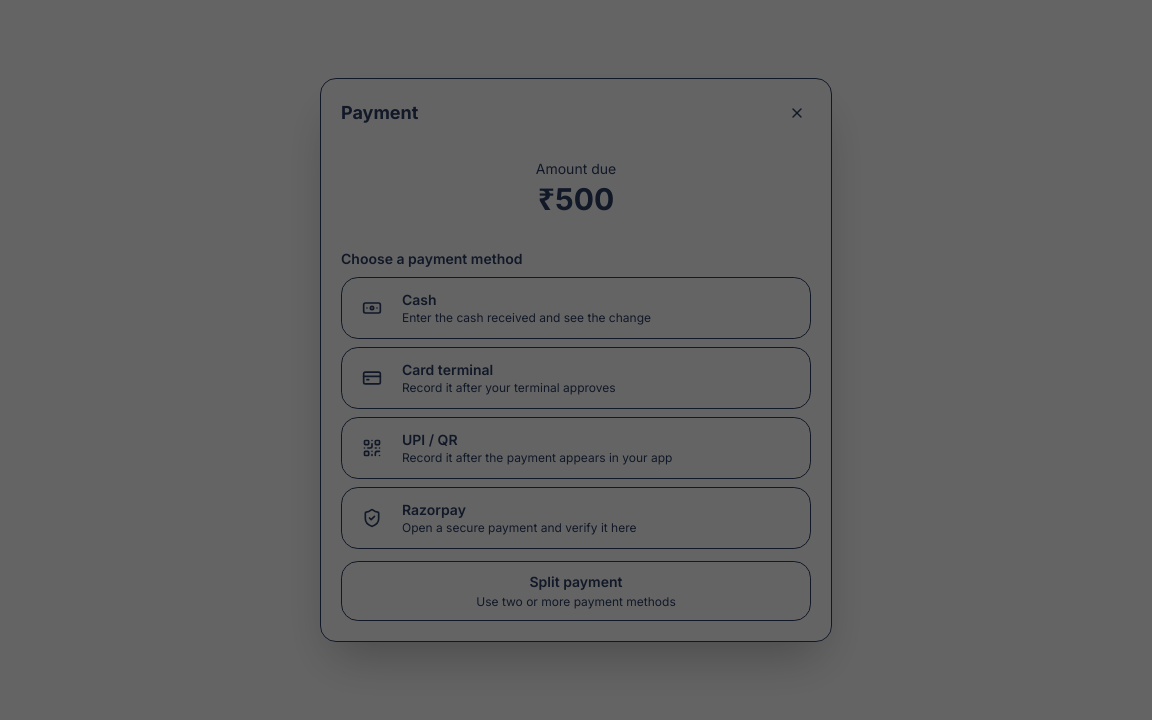
it: split payments › uses a method → amount → next method loop
Click the button "Split payment Use two or more payment methods".
click(576, 591)  # box [341,561,811,621]
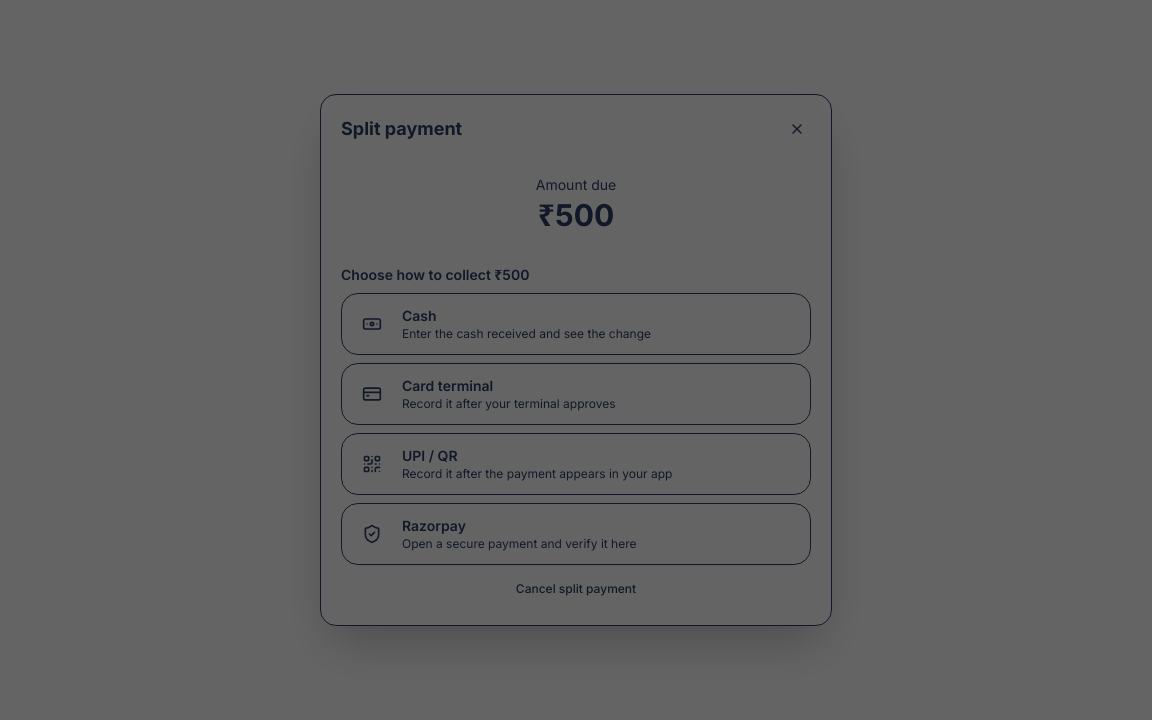
Expected: the field with placeholder "up to" is not shown
Expected: the heading "Split payment" is shown, [341,118,462,139]
Expected: the text "Choose how to collect ₹500" is shown, [341,266,529,283]
Click the button "Cash Enter the cash received and see the change".
click(576, 324)  # box [341,293,811,355]
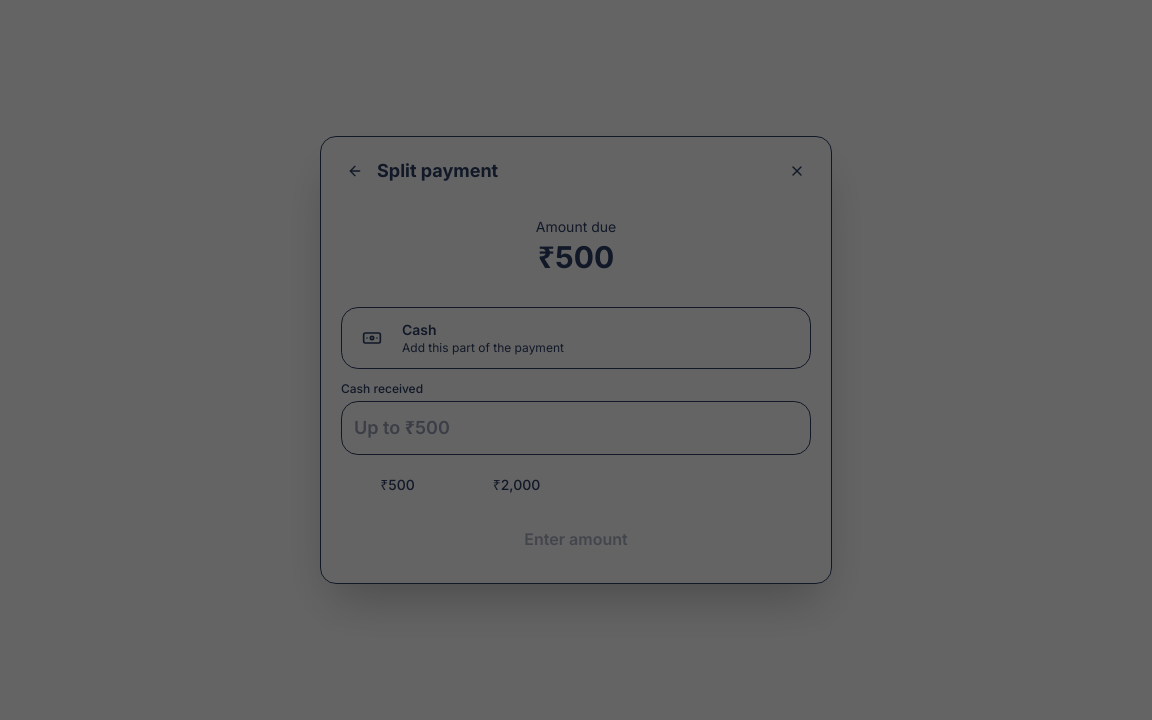
Expected: the field labelled "Cash received" is empty
Expected: the button "Enter amount" is disabled, [341,515,811,563]
Type "300" into the field labelled "Cash received".
click(576, 428); type("300")  # box [341,401,811,455]
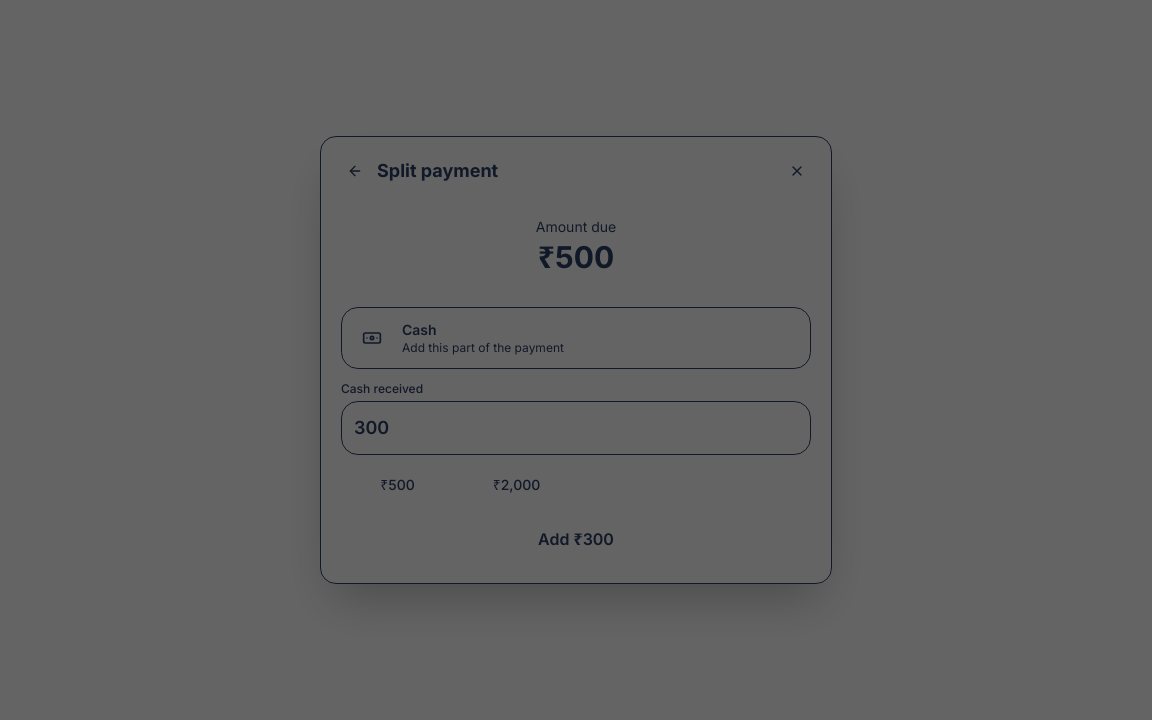
Click the button "Add ₹300".
click(576, 539)  # box [341,515,811,563]
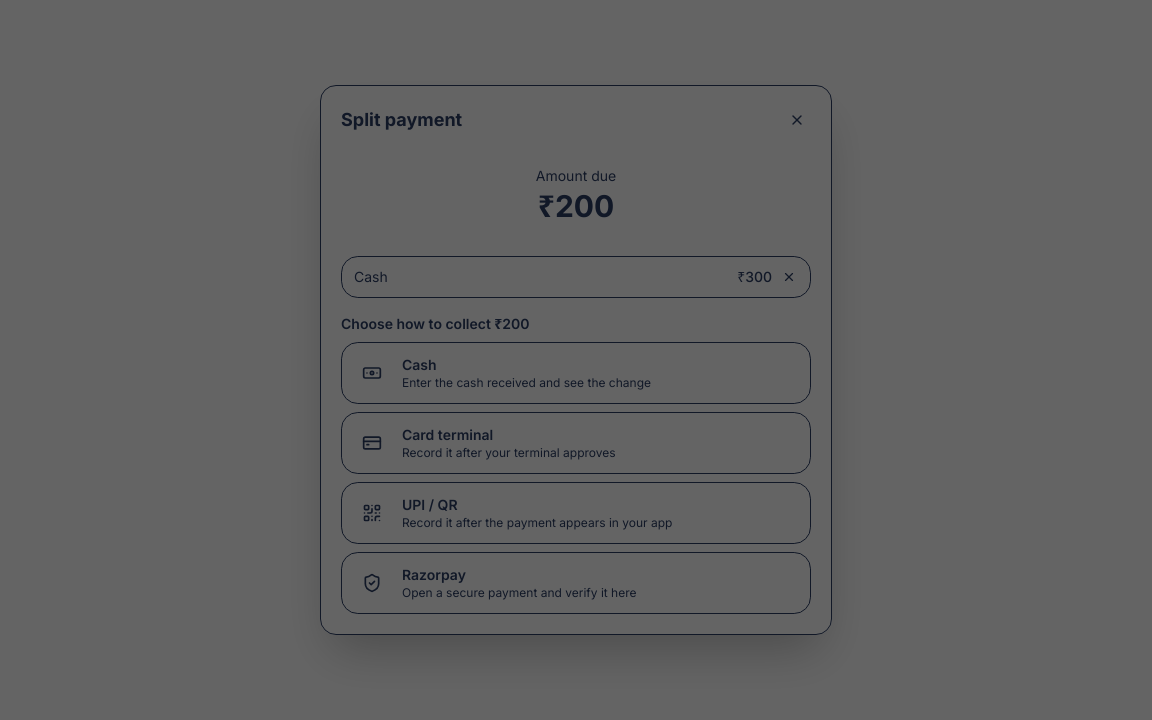
Expected: the text "₹200" is shown, [538,188,614,224]
Expected: the text "Choose how to collect ₹200" is shown, [341,315,530,332]
Expected: the text "Cash" is shown 2 times, [354,267,388,287]; [402,356,437,373]
